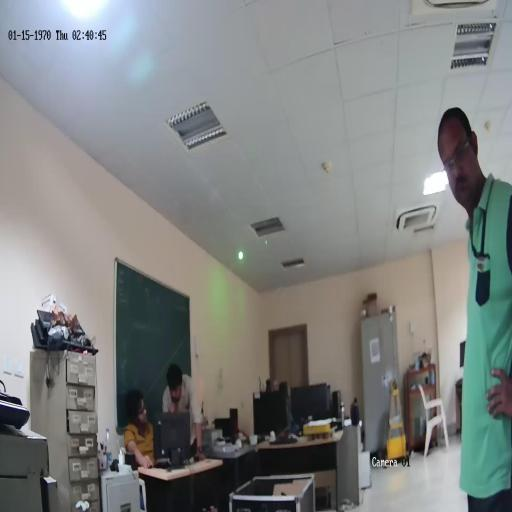laser: (238, 250, 244, 261)
